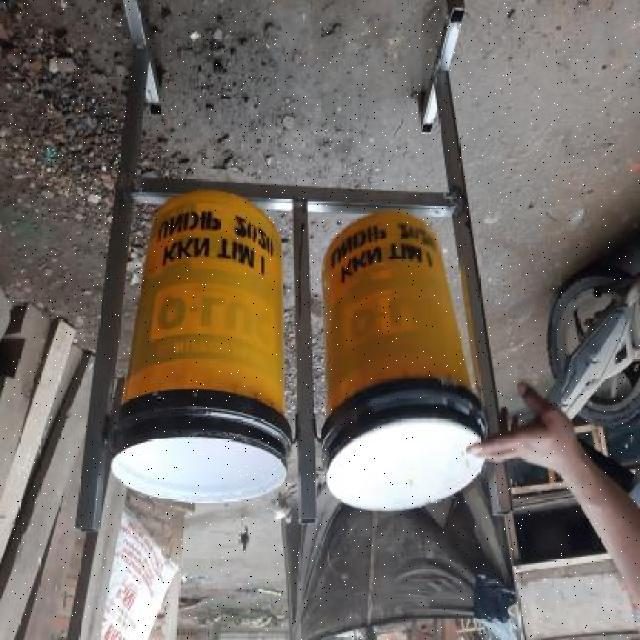garbage container: (107, 202, 293, 511), (323, 200, 499, 522)
